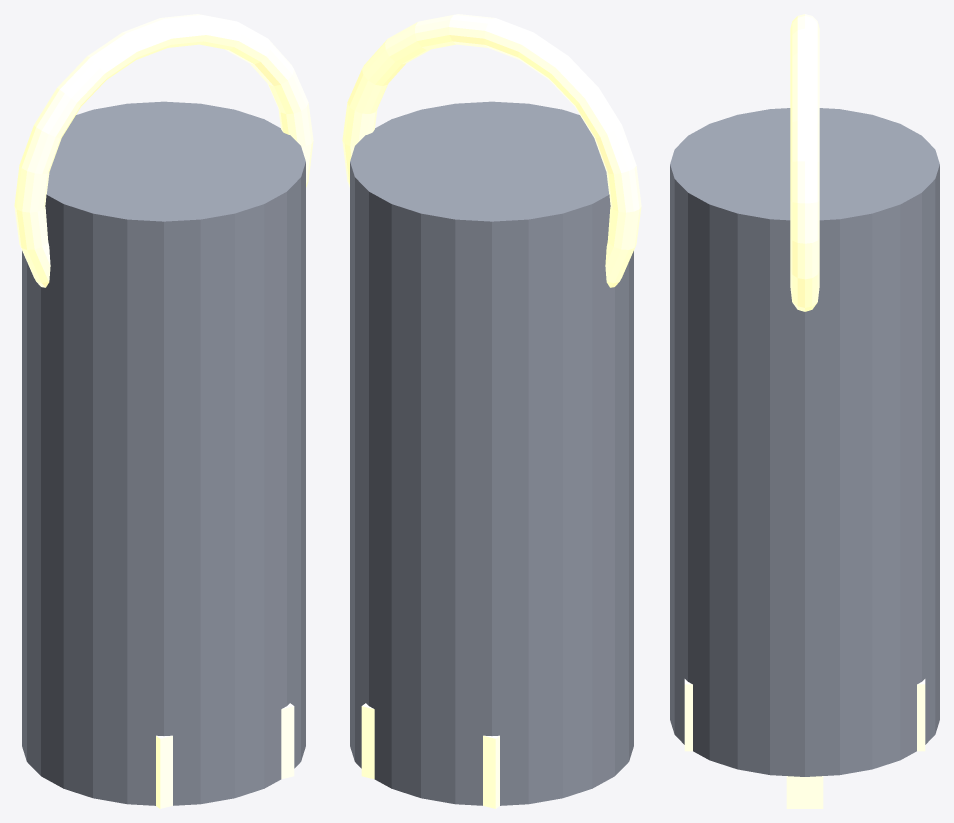
File: rocket.glb
The picture shows the model from 3 angles, left to right: view 1: azimuth 30°, elevation 25°; view 2: azimuth 150°, elevation 25°; view 3: azimuth 270°, elevation 25°; orthographic projection. The views are drawn at different scales.
Parts seen in each view (by area): view 1: body, warning_ring, fin_b; view 2: body, warning_ring, fin_a; view 3: body, warning_ring, asym_thruster, fin_a, fin_b.
Part boxes in pixels (x1,y1,x2,y2): body: (22,101,305,805); warning_ring: (14,14,313,287); fin_b: (156,703,294,808); body: (350,101,633,805); warning_ring: (342,14,641,287); fin_a: (361,703,499,808); body: (670,108,939,776); warning_ring: (790,14,819,311); asym_thruster: (786,776,823,808); fin_a: (917,679,925,751); fin_b: (684,679,692,751).
Bounding box in the file's own units: 0.264 × 0.667 × 0.22.
